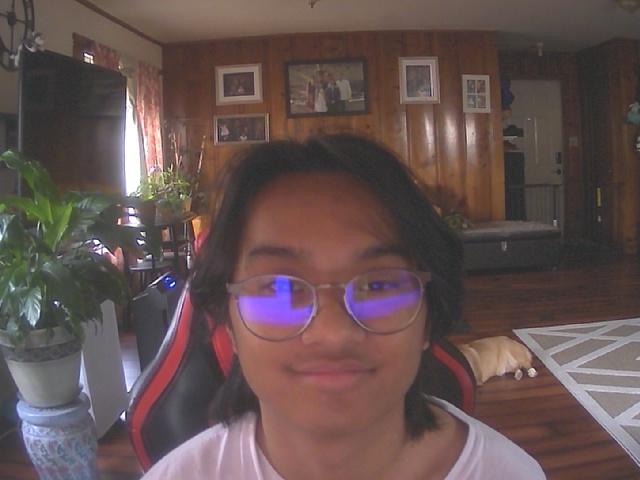happy: (219, 134, 443, 437)
